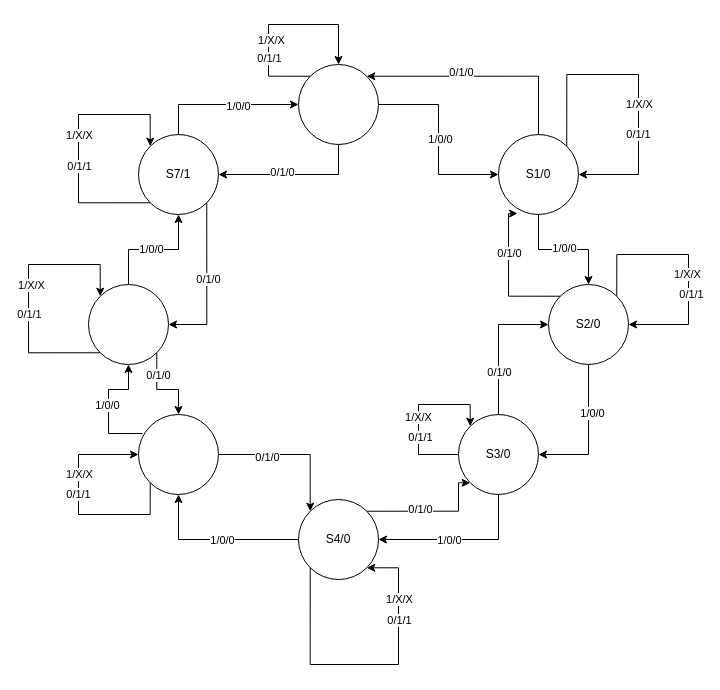
Image size: 720x690. Some labels were removed from this diagram. The centre of each missing label's shape, as x and y in pixels:
"S0/0" goes at point 338,104.
"S5/0" goes at point 178,454.
"S6/0" goes at point 128,324.
